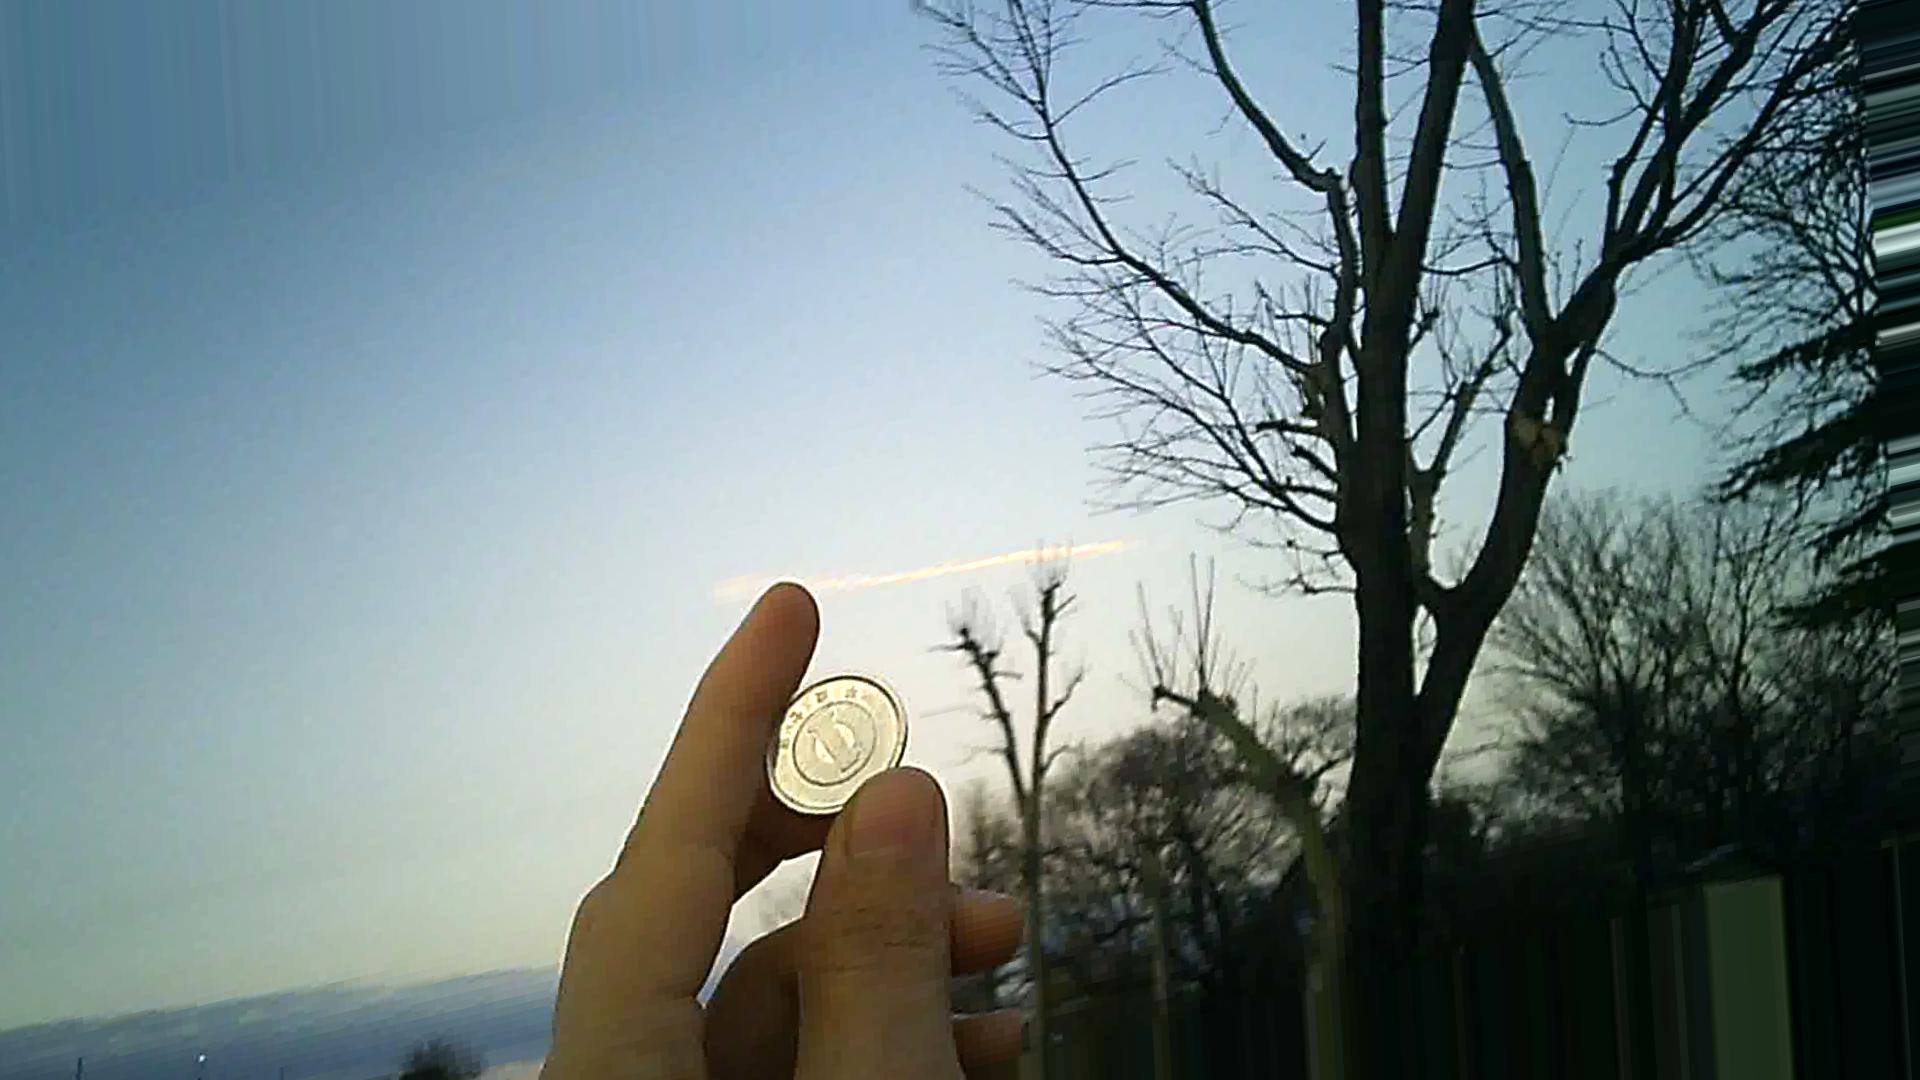1 Yen: (753, 661, 914, 829)
